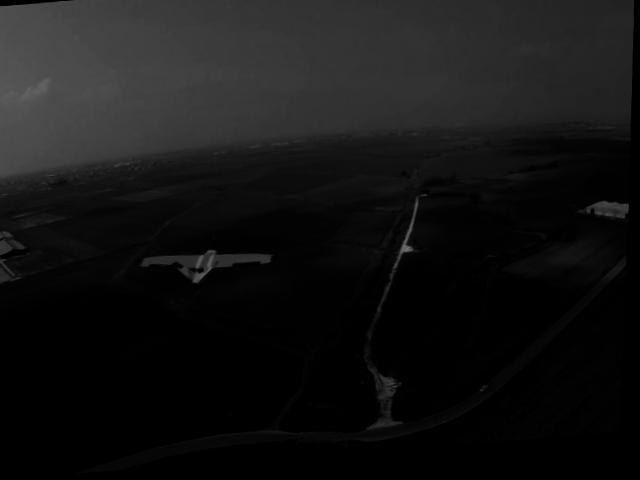hedef: (122, 215, 292, 340)
